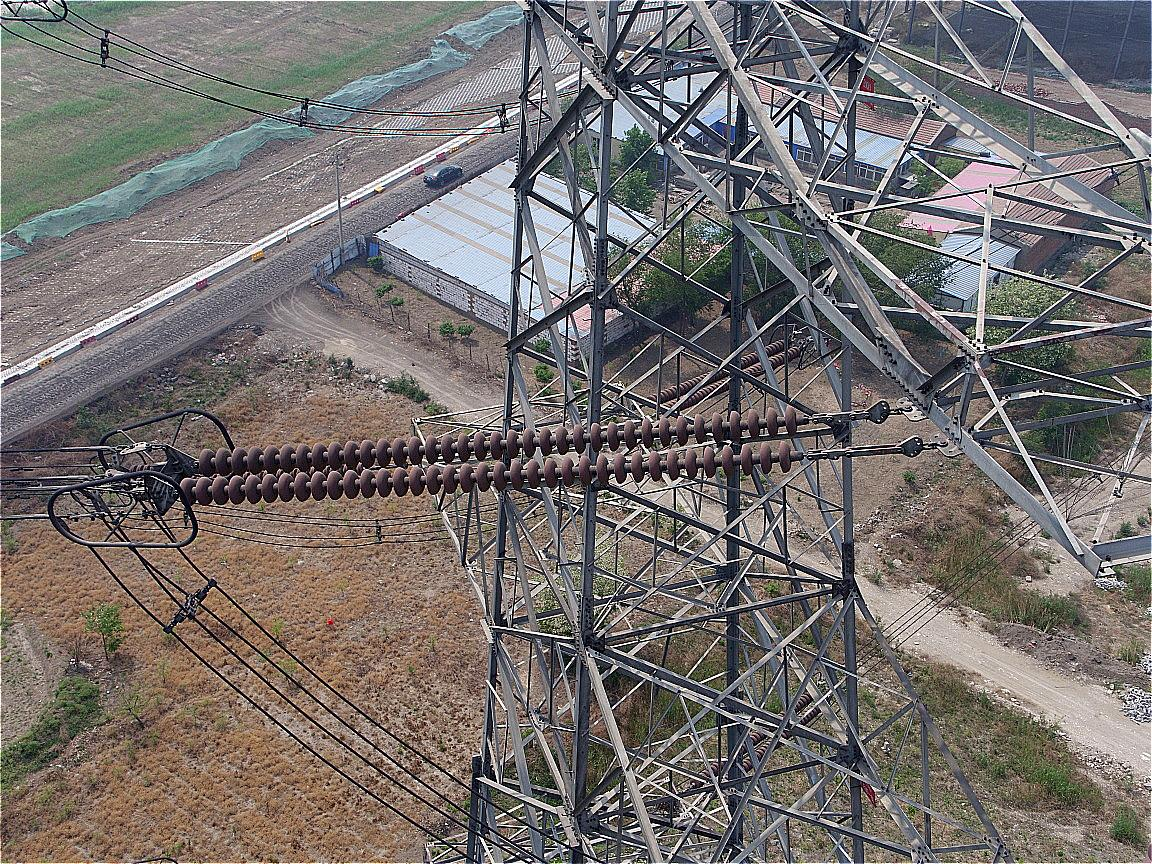insultor1: (179, 405, 801, 508)
